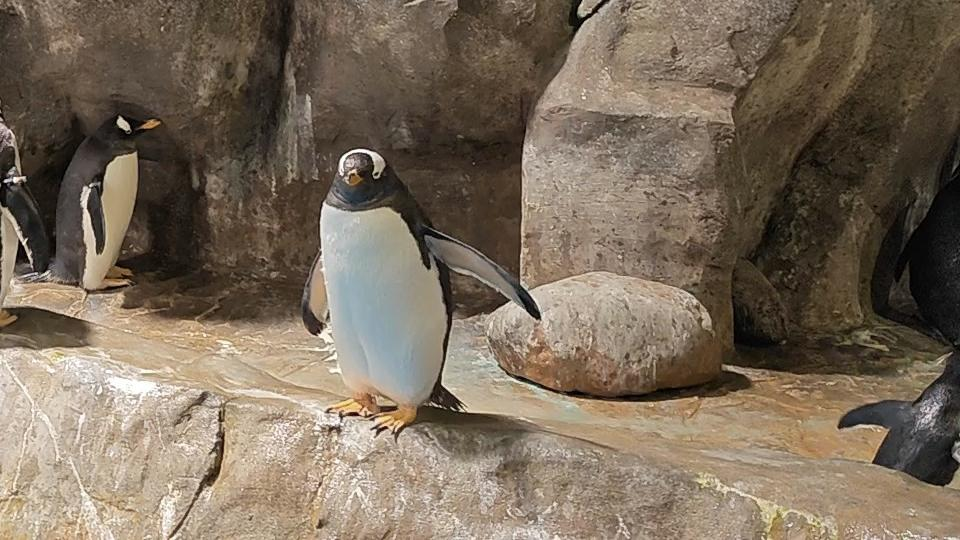Southern Rockhopper Penguin: (830, 329, 960, 511)
